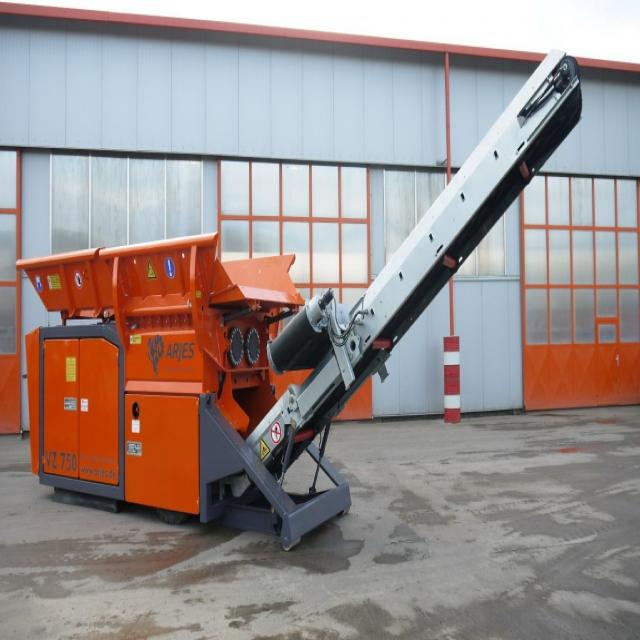Broyeur: (15, 236, 302, 322)
Convoyeur: (270, 49, 600, 458)
